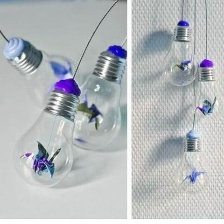light_bulb: (7, 72, 85, 192), (59, 39, 129, 155), (0, 34, 94, 116), (156, 16, 202, 88), (170, 128, 214, 192), (185, 56, 224, 124)
